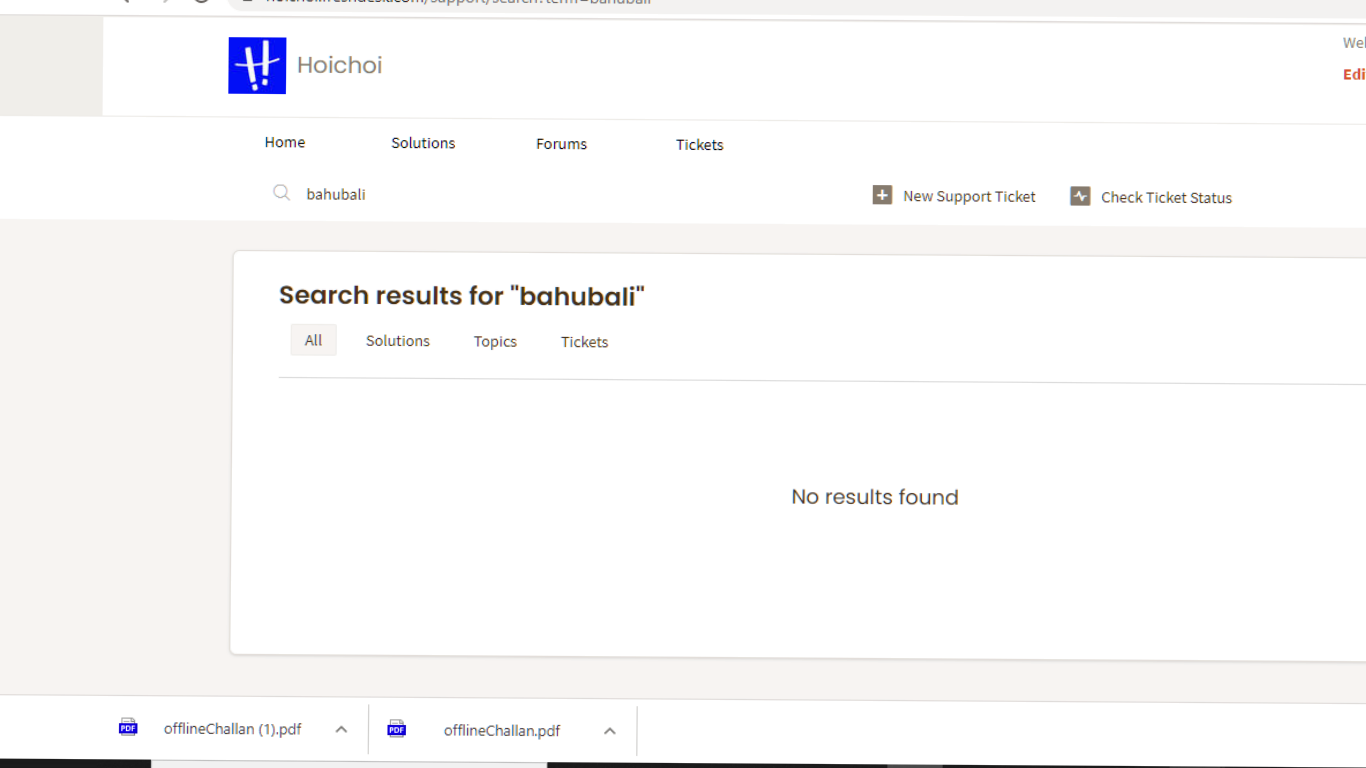noresultsfound: (774, 474, 977, 517)
searchicon: (259, 175, 300, 216)
searchtextbox: (251, 165, 785, 223)
